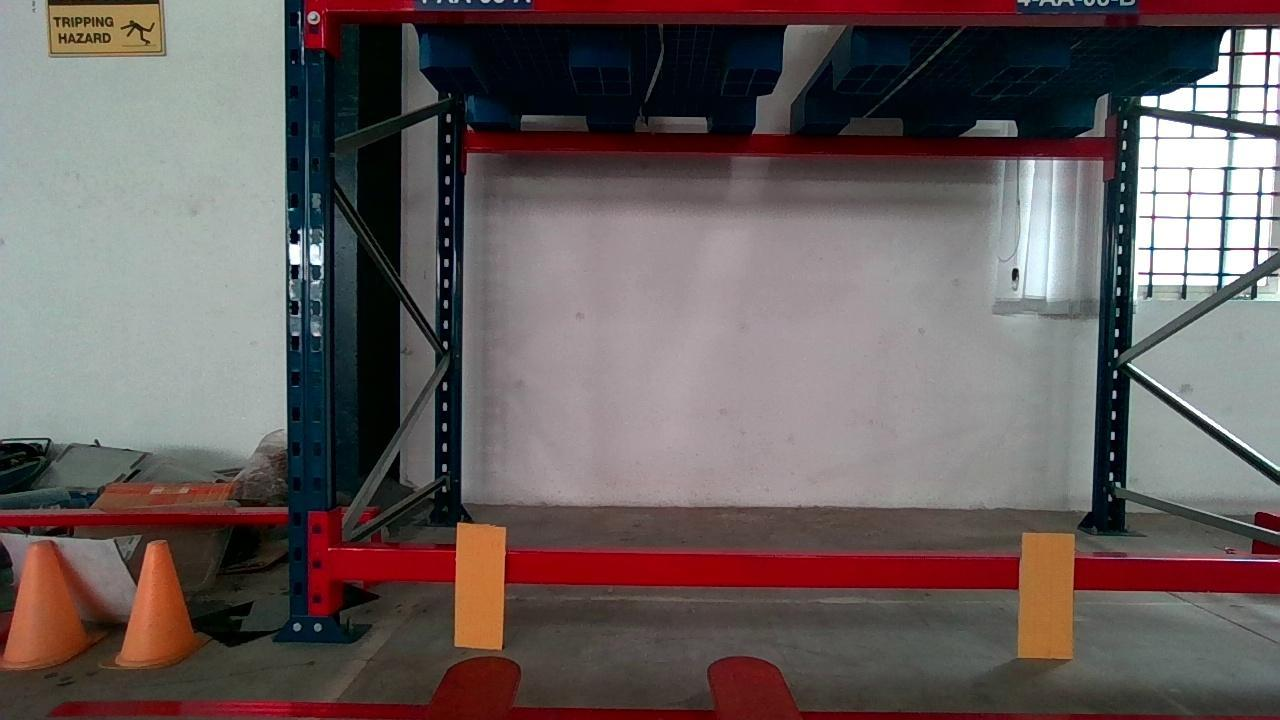h_rack: (329, 547, 1280, 594), (322, 0, 1280, 19)
orange_strip: (1013, 530, 1077, 663), (455, 521, 507, 652)
red_line: (54, 698, 1278, 720)
